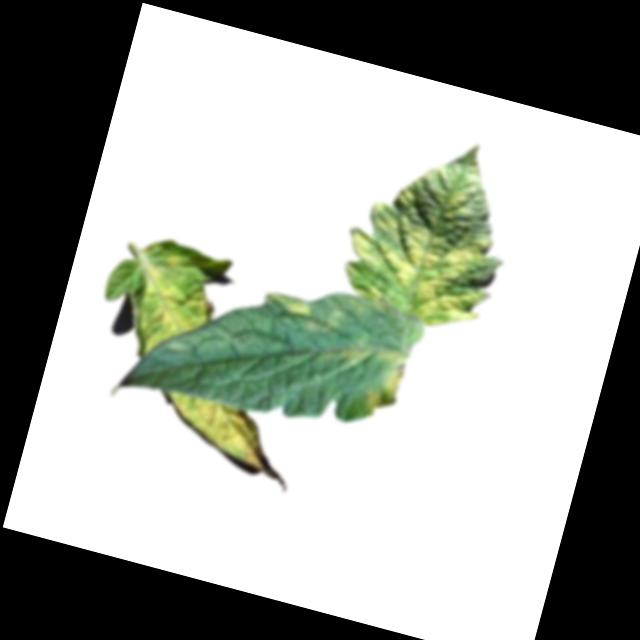Leaf_Mold: (332, 201, 500, 336), (156, 388, 279, 479), (132, 249, 224, 368), (325, 332, 412, 423), (263, 287, 344, 343)
